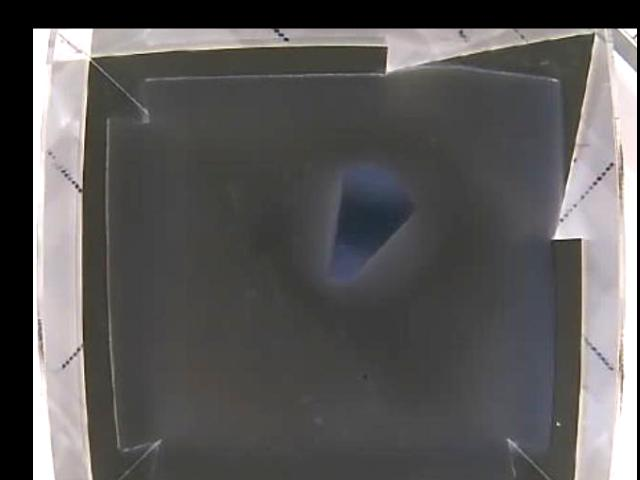Mooli: (325, 162, 413, 286)
